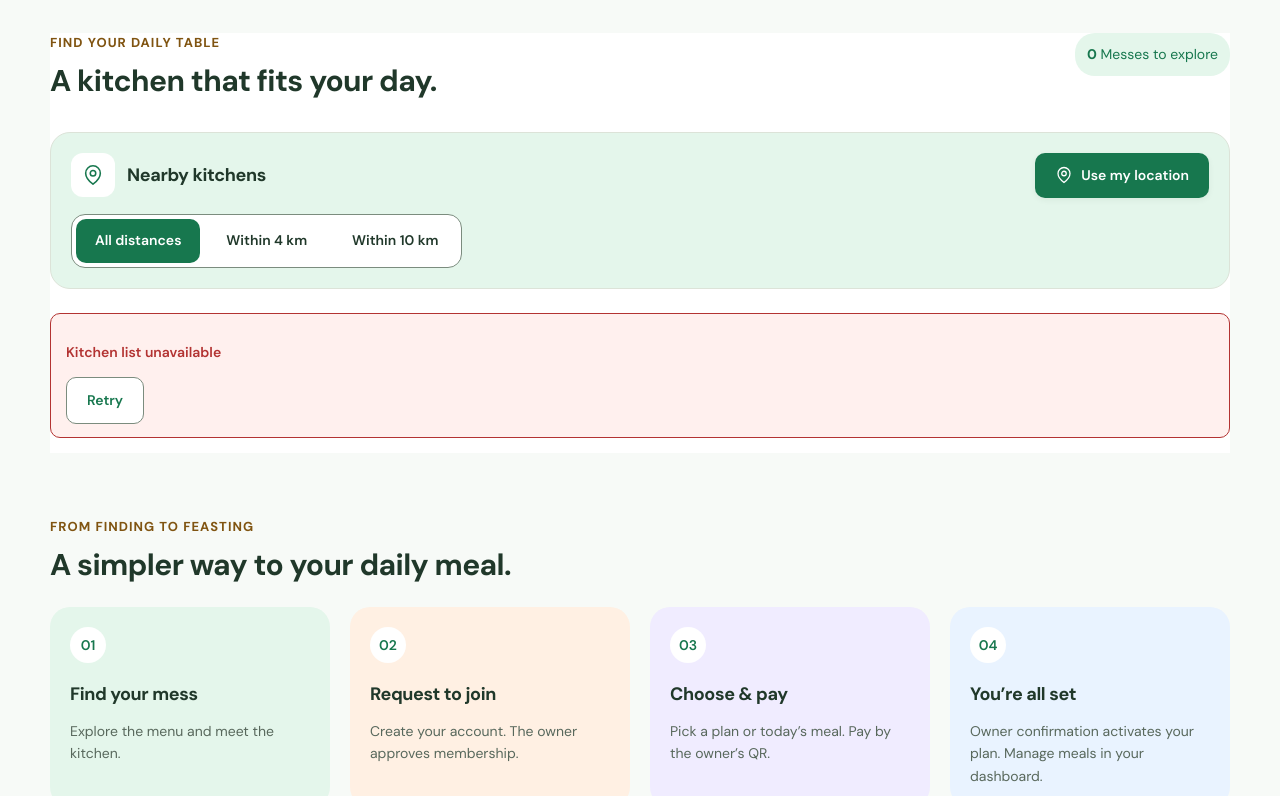
Test case: retries the existing public request after a load failure
(page scrolled)
Expected: the message "Kitchen list unavailable Retry" is shown, [50,312,1230,438]
Click the button "Retry" at [105, 400], box [66,377,144,424]
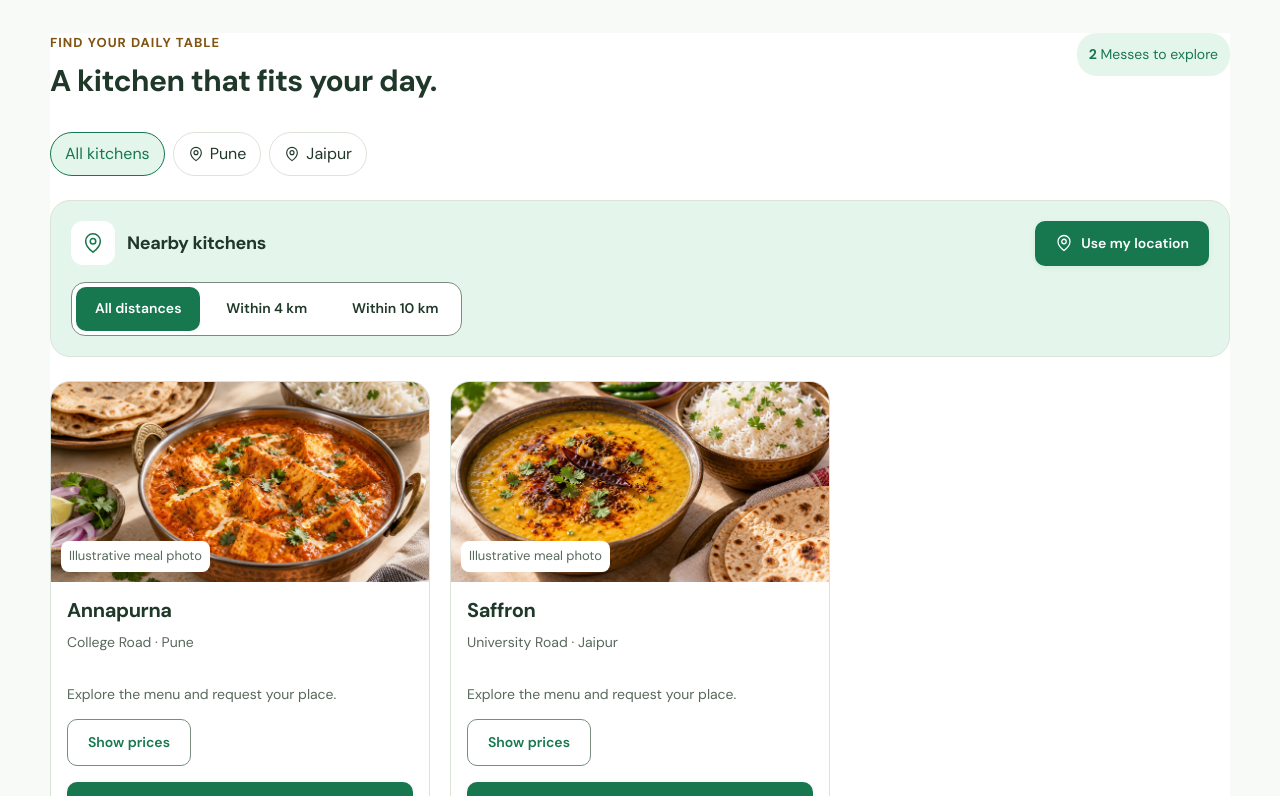
Now the heading "Annapurna" is shown, box [67,596,172,622]
